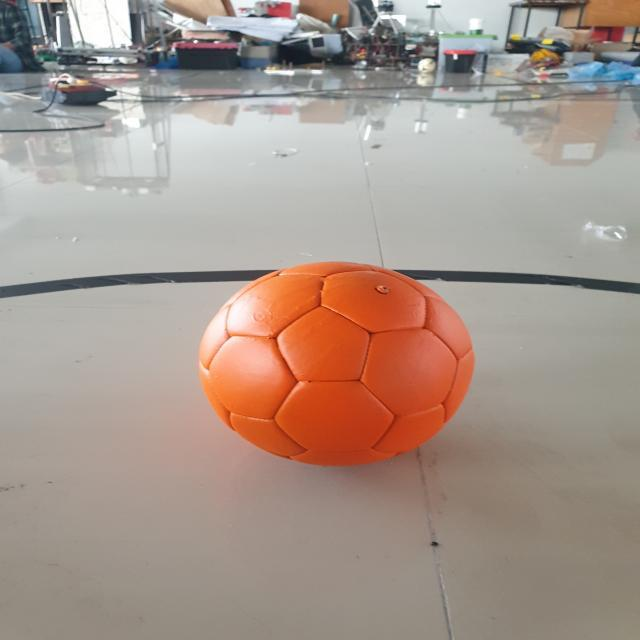bola: (184, 256, 483, 471)
